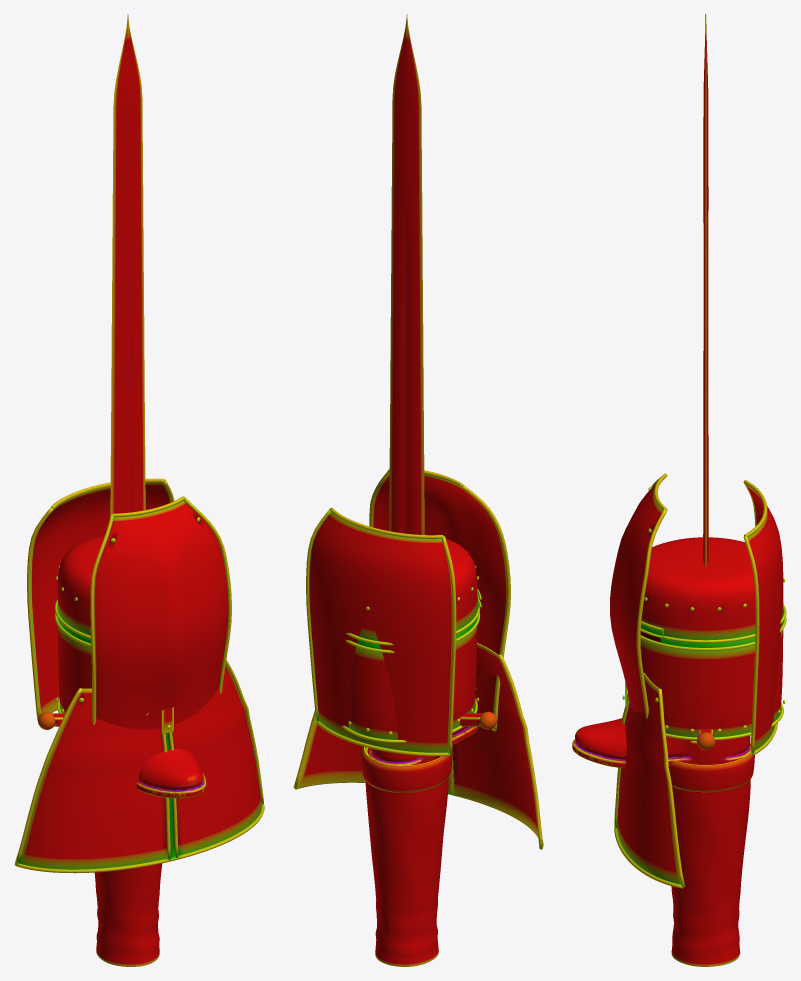
The model's file is knight_armor.glb.
3 views of the same model, side by side, from view 1: azimuth 30°, elevation 25°; view 2: azimuth 150°, elevation 25°; view 3: azimuth 270°, elevation 25° (orthographic).
Visible parts, largest first — view 1: chest__chestplate__breastplate, pelvis__tasset__tassetR, sword__steel__blade, pelvis__tasset__tassetL, chest__plate__backplate, shin__boot__boot, head__helm__helm, foot__bootfoot__boot; view 2: chest__plate__backplate, sword__steel__blade, shin__boot__boot, chest__chestplate__breastplate, pelvis__tasset__tassetR, head__helm__helm, pelvis__tasset__tassetL, foot__bootfoot__boot; view 3: head__helm__helm, shin__boot__boot, pelvis__tasset__tassetL, chest__plate__backplate, chest__chestplate__breastplate, foot__bootfoot__boot, sword__steel__blade.
Part boxes in pixels (x1=…): chest__chestplate__breastplate: x1=90, y1=496, x2=231, y2=729; pelvis__tasset__tassetR: x1=14, y1=688, x2=178, y2=873; sword__steel__blade: x1=110, y1=14, x2=145, y2=514; pelvis__tasset__tassetL: x1=162, y1=660, x2=264, y2=860; chest__plate__backplate: x1=27, y1=478, x2=174, y2=720; shin__boot__boot: x1=94, y1=863, x2=162, y2=966; head__helm__helm: x1=54, y1=535, x2=173, y2=733; foot__bootfoot__boot: x1=136, y1=748, x2=206, y2=798; chest__plate__backplate: x1=306, y1=507, x2=456, y2=756; sword__steel__blade: x1=389, y1=14, x2=424, y2=534; shin__boot__boot: x1=361, y1=746, x2=452, y2=966; chest__chestplate__breastplate: x1=369, y1=468, x2=510, y2=731; pelvis__tasset__tassetR: x1=448, y1=643, x2=543, y2=849; head__helm__helm: x1=342, y1=539, x2=481, y2=742; pelvis__tasset__tassetL: x1=293, y1=710, x2=454, y2=795; foot__bootfoot__boot: x1=369, y1=727, x2=477, y2=765; head__helm__helm: x1=622, y1=537, x2=786, y2=740; shin__boot__boot: x1=668, y1=753, x2=754, y2=966; pelvis__tasset__tassetL: x1=614, y1=672, x2=685, y2=888; chest__plate__backplate: x1=743, y1=480, x2=783, y2=755; chest__chestplate__breastplate: x1=610, y1=473, x2=667, y2=719; foot__bootfoot__boot: x1=572, y1=718, x2=750, y2=767; sword__steel__blade: x1=703, y1=14, x2=708, y2=566.
Bounding box in the file's own units: 0.4723 × 1.7 × 0.3513.
